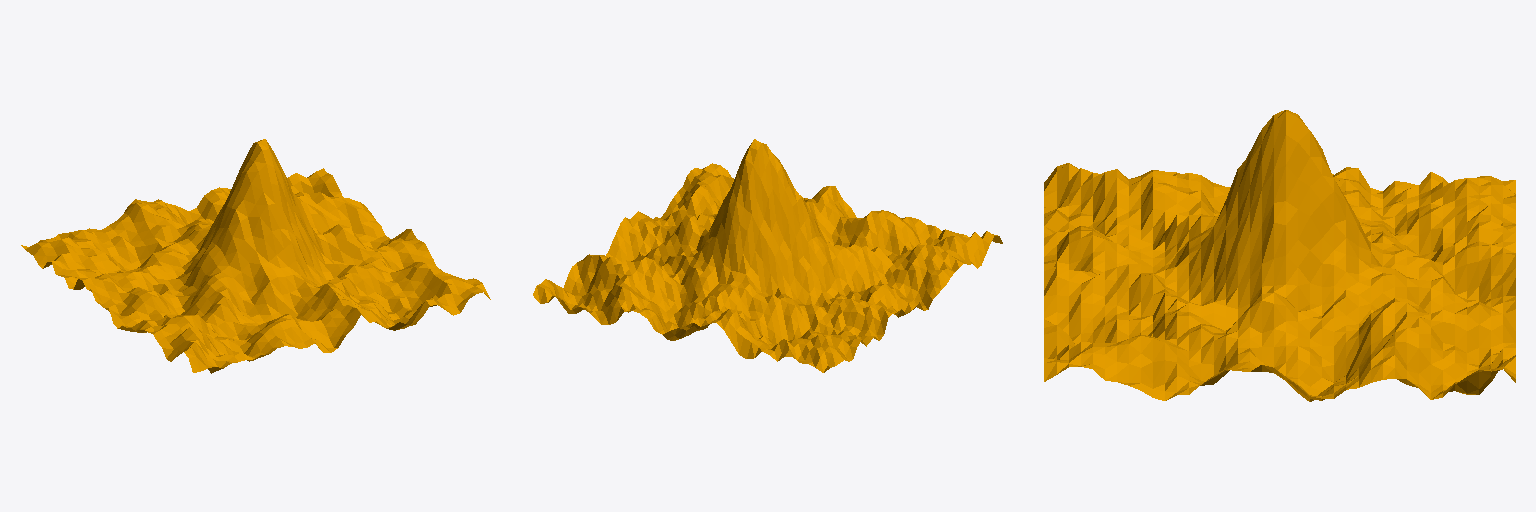
robot.urdf — mountain:
<?xml version="1.0"?>
<robot name="mountain">
  <link name="baseLink">
    <inertial>
      <origin xyz="0 0 0" rpy="0 0 0"/>
      <mass value="1"/>
      <inertia ixx="1" ixy="0" ixz="0" iyy="1" iyz="0" izz="1"/>
    </inertial>
    <visual>
      <origin xyz="0 0 0" rpy="0 0 0"/>
      <geometry>
        <mesh filename="roots.obj" scale="1 1 1"/>
      </geometry>
    </visual>
    <collision>
      <origin xyz="0 0 0" rpy="0 0 0"/>
      <geometry>
        <mesh filename="roots.obj" scale="1 1 1"/>
      </geometry>
    </collision>
  </link>
</robot>

--- What the picture shows (computed from the rendered views, not written in the file) ---
The picture shows the robot from 3 angles, left to right: view 1: azimuth 30°, elevation 25°; view 2: azimuth 150°, elevation 25°; view 3: azimuth 270°, elevation 25°; orthographic projection.
Robot: mountain — 1 links, 0 joints (none); root link baseLink; default pose: every joint at zero.
Links seen in each view (by area): view 1: baseLink; view 2: baseLink; view 3: baseLink.
Boxes of the visible links, left/top/right/bottom form: baseLink: left=21, top=139, right=490, bottom=373; baseLink: left=533, top=139, right=1002, bottom=372; baseLink: left=1044, top=110, right=1515, bottom=401.
Bounding box of the posed robot: 19.5 × 19.5 × 9.82 m (x, y, z).
Meshes: 1 distinct files referenced, 1 mesh visuals loaded (1 OBJ).